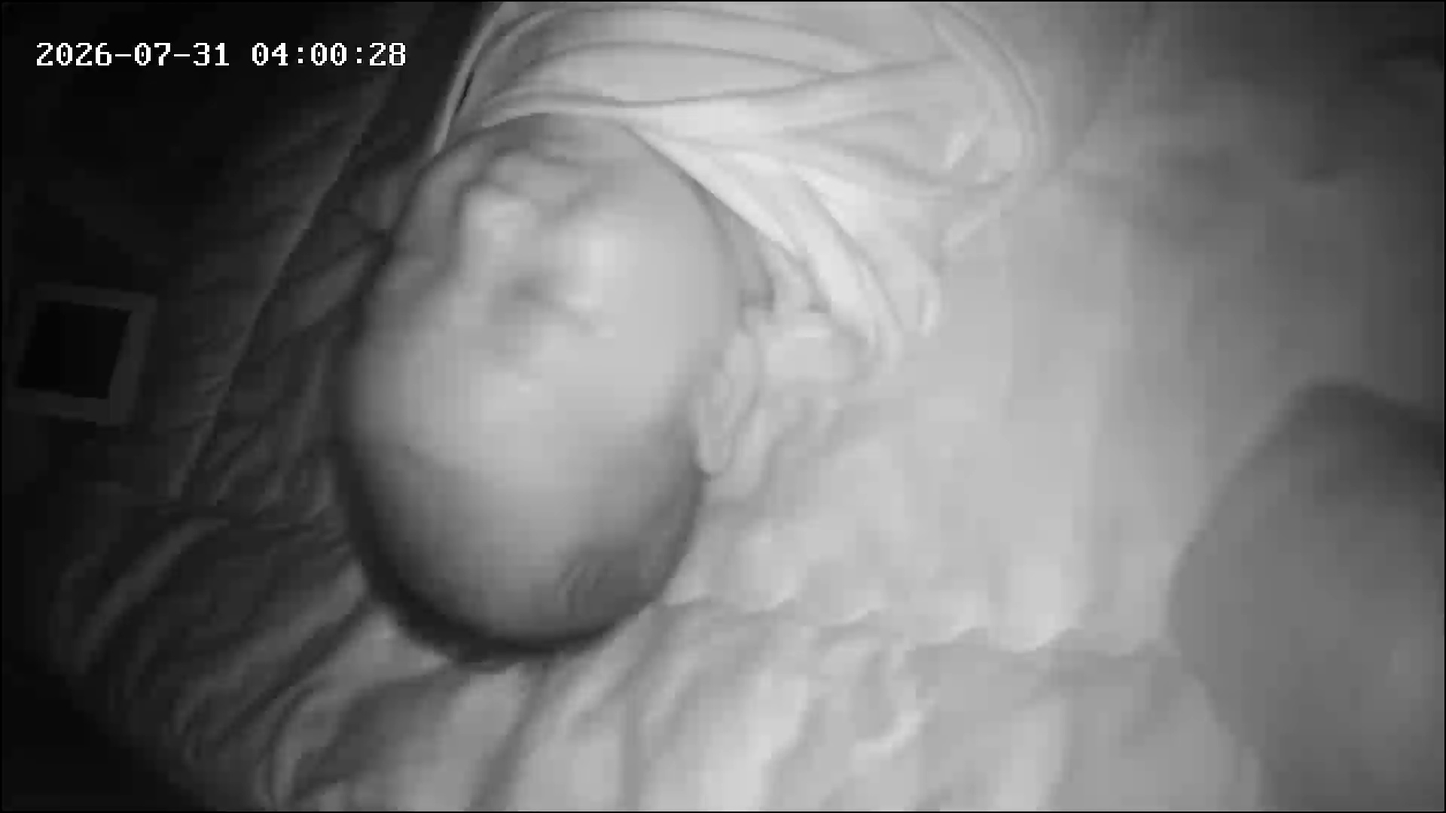baby: (299, 0, 903, 678)
baby_face: (316, 117, 765, 661)
